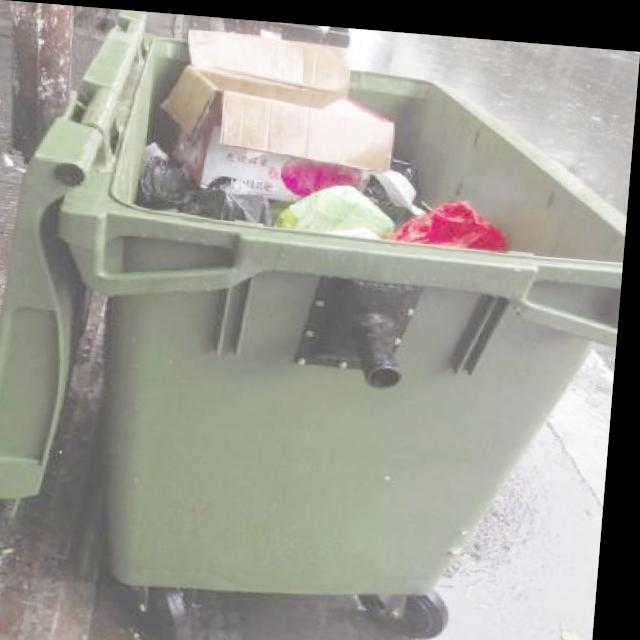overflow: (0, 0, 638, 613)
